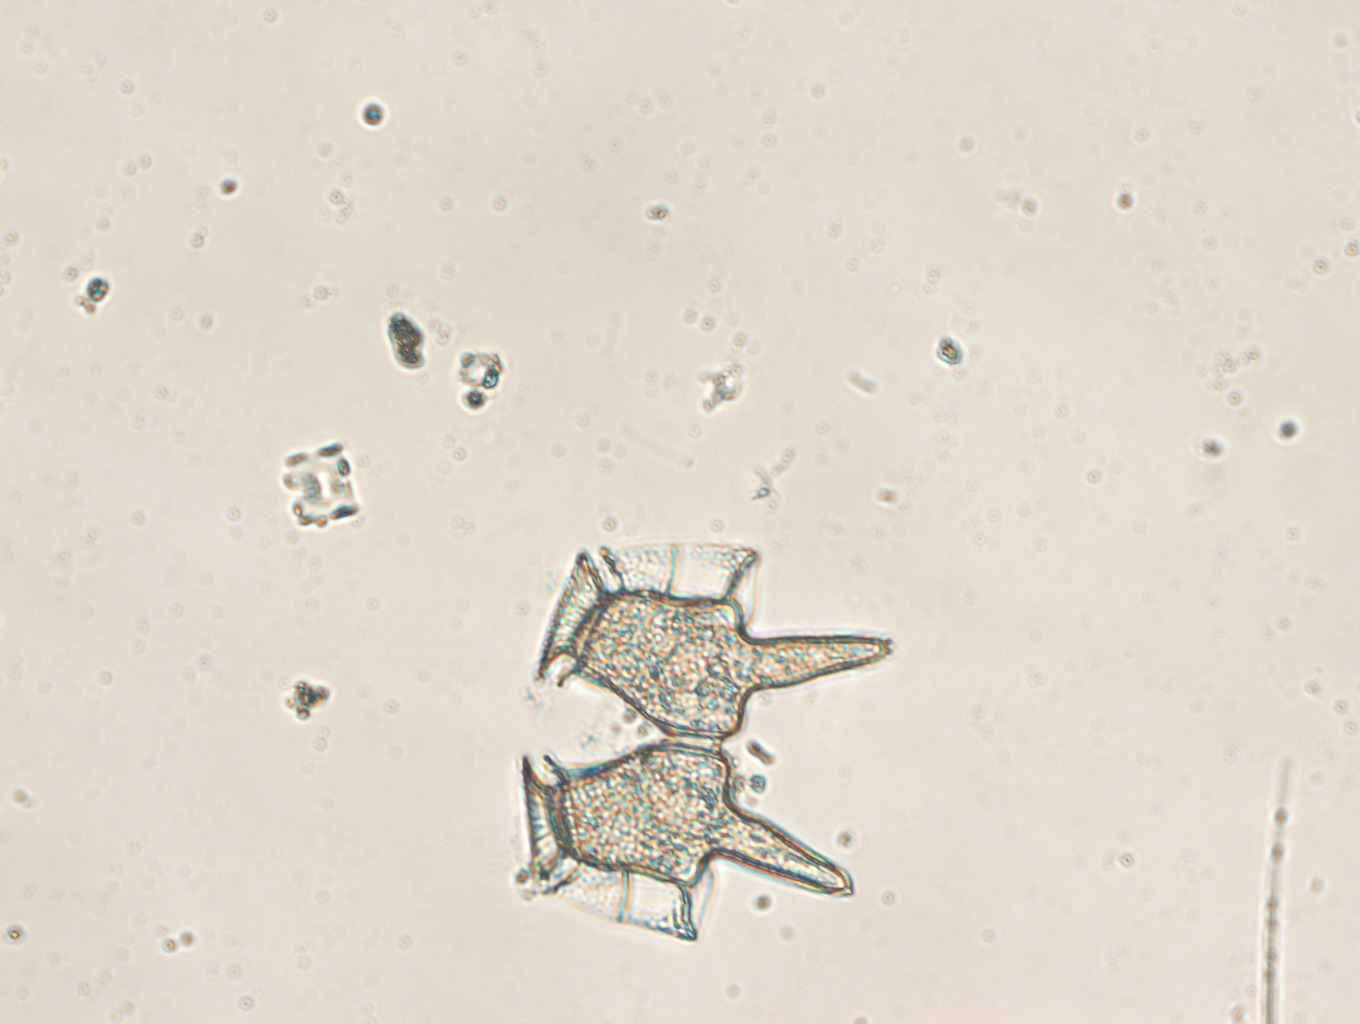dinophysis caudata: (520, 544, 899, 944)
